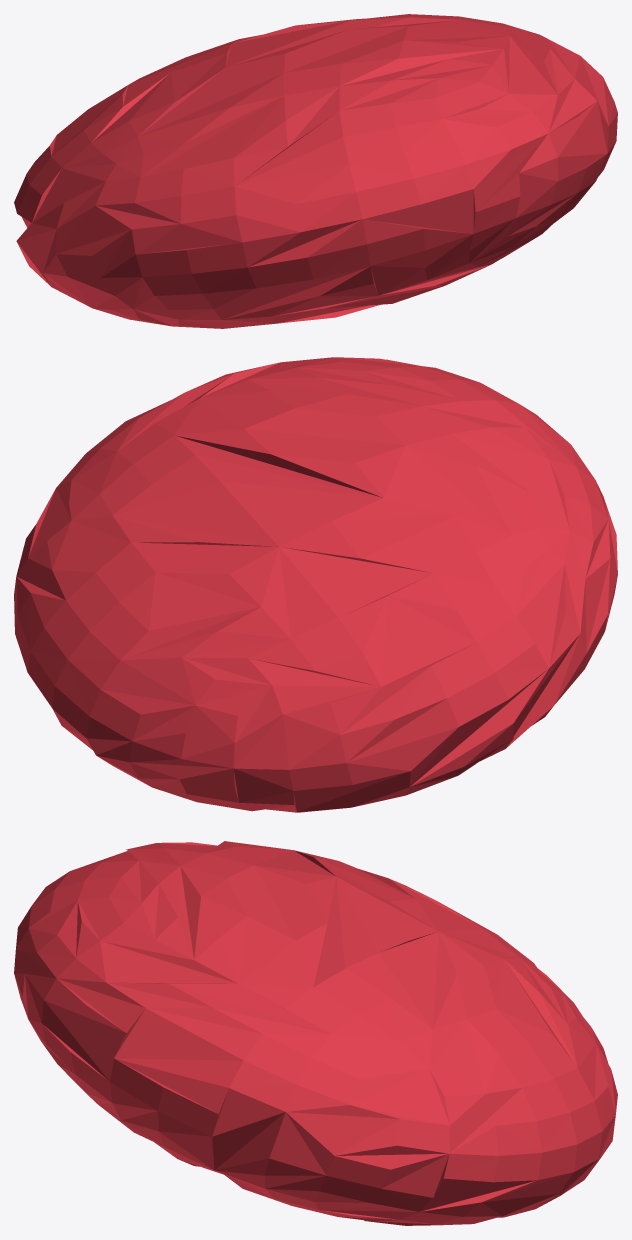
3 views of the same model, one above another, from view 1: azimuth 30°, elevation 25°; view 2: azimuth 150°, elevation 25°; view 3: azimuth 270°, elevation 25° (orthographic). The views are drawn at different scales.
Parts seen in each view (by area): view 1: Sphere__24_; view 2: Sphere__24_; view 3: Sphere__24_.
Boxes of the visible parts, x1,y1,x2,y2 form: Sphere__24_: (14, 14, 617, 328); Sphere__24_: (14, 357, 617, 812); Sphere__24_: (14, 841, 617, 1225).
Bounding box in the file's own units: 383 × 202 × 369.
